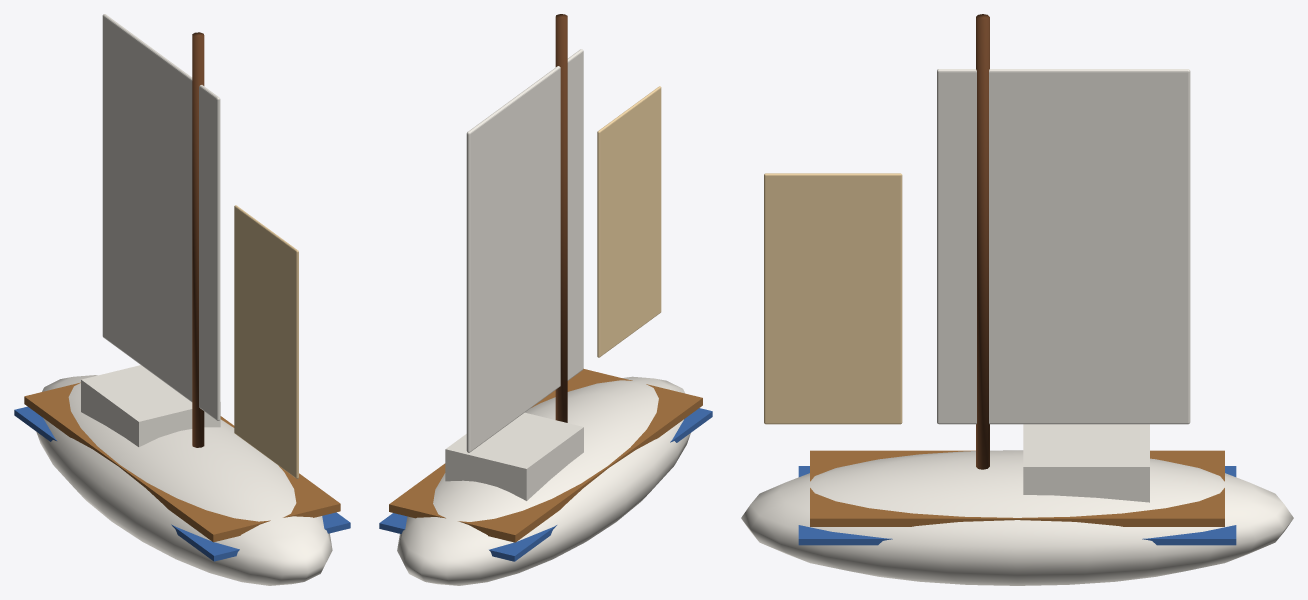
The model's file is sailboat.glb.
The picture shows the model from 3 angles, left to right: view 1: azimuth 30°, elevation 25°; view 2: azimuth 150°, elevation 25°; view 3: azimuth 270°, elevation 25°; orthographic projection. The views are drawn at different scales.
Visible parts, largest first — view 1: hull, sail, jib, mast; view 2: hull, sail, jib, mast; view 3: sail, hull, jib, mast.
Part boxes in pixels (box(x1,y1,x2,y2)): hull: box(14, 365, 350, 585); sail: box(102, 14, 220, 420); jib: box(234, 205, 298, 478); mast: box(192, 32, 204, 447); hull: box(379, 368, 712, 585); sail: box(466, 49, 583, 452); jib: box(597, 86, 661, 357); mast: box(555, 14, 567, 422); sail: box(937, 69, 1190, 424); hull: box(741, 424, 1293, 585); jib: box(764, 173, 902, 424); mast: box(976, 14, 989, 469).
Size of the model in its own units: 1.8 by 5.3 by 4.8.
